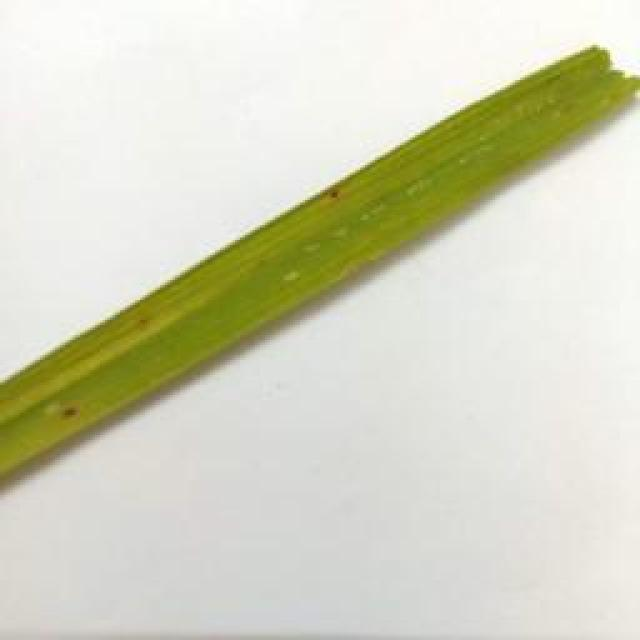Brown_Spot: (311, 176, 346, 211), (54, 397, 94, 423), (134, 307, 157, 338)
